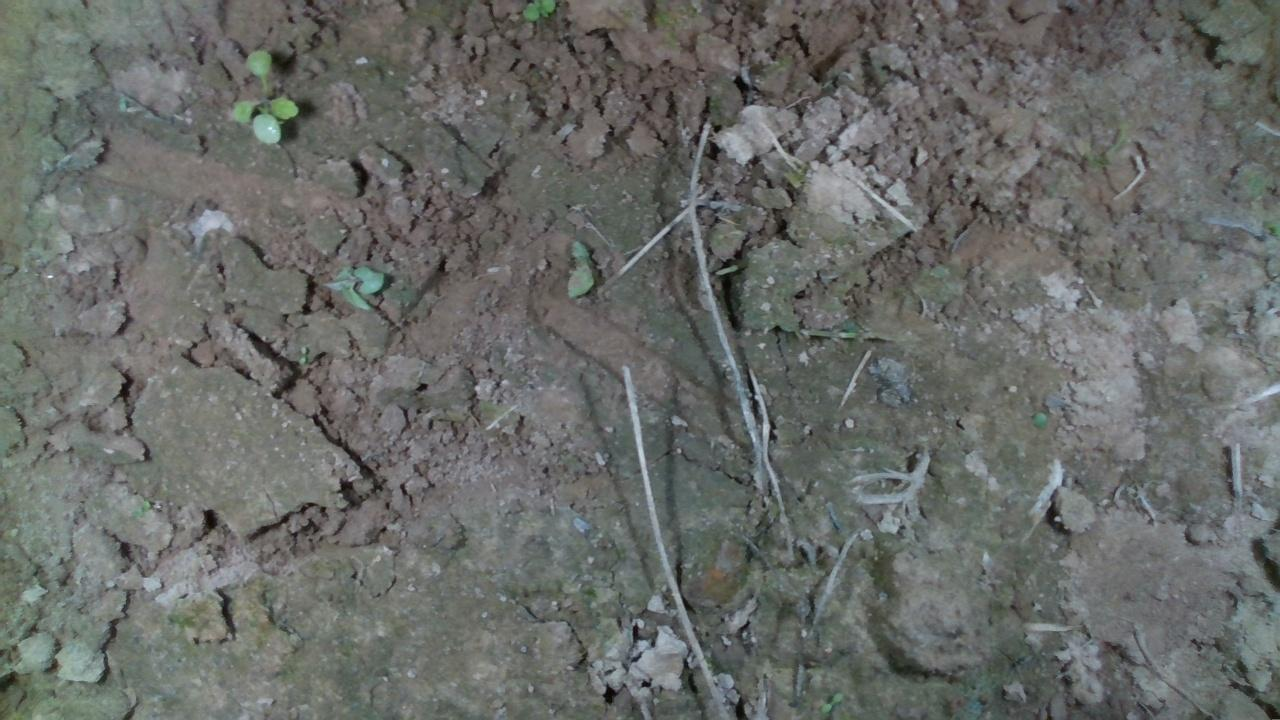weed: (227, 47, 301, 144)
